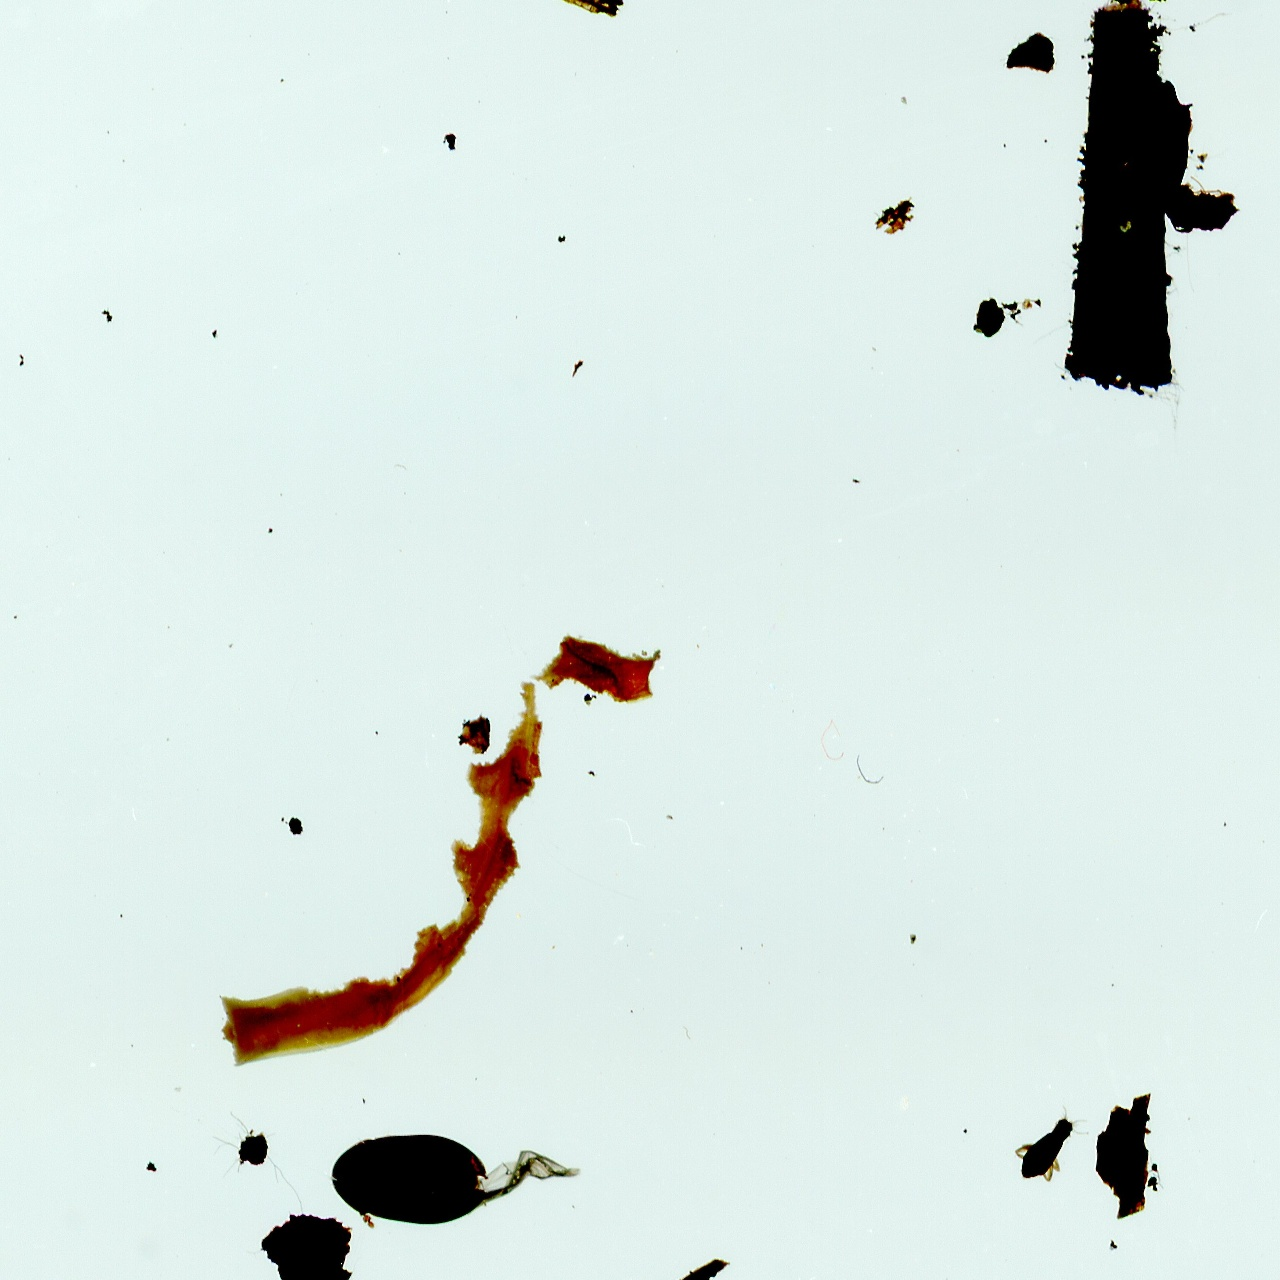arthropod: (329, 1130, 585, 1232), (1012, 1105, 1092, 1183)
